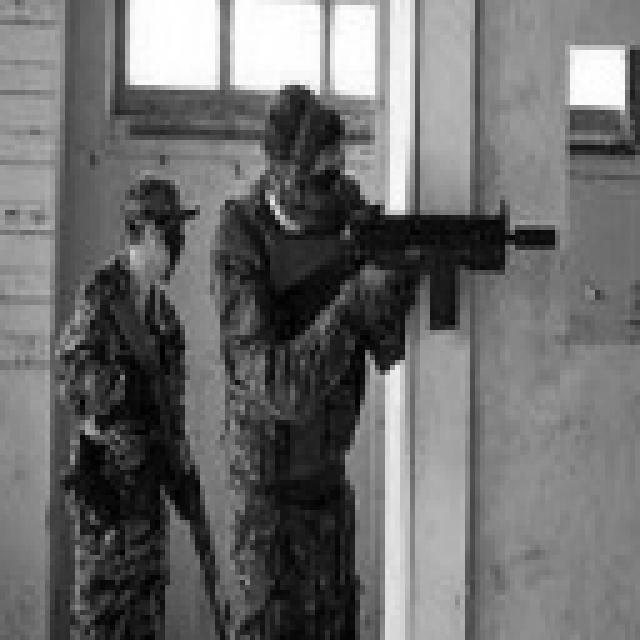Rifle: (64, 245, 251, 640), (248, 173, 587, 380)
